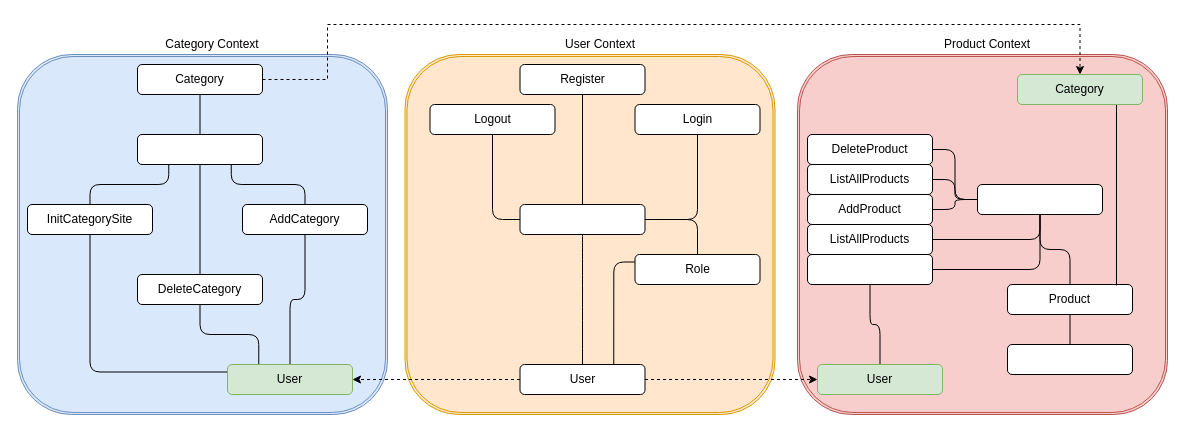
Some shapes in this 1185 by 432 pixel diagram are drawn without their labels. The shapes that lost their labels are listed below. From the top down, each one's box as (x1, y1, x2, y2) in pixels, then its label:
(136, 134, 262, 164): CategoryManager
(519, 204, 645, 234): UserManager
(976, 184, 1102, 214): ProductManager
(806, 254, 932, 284): SearchAction
(1006, 344, 1132, 374): ProductDetails
